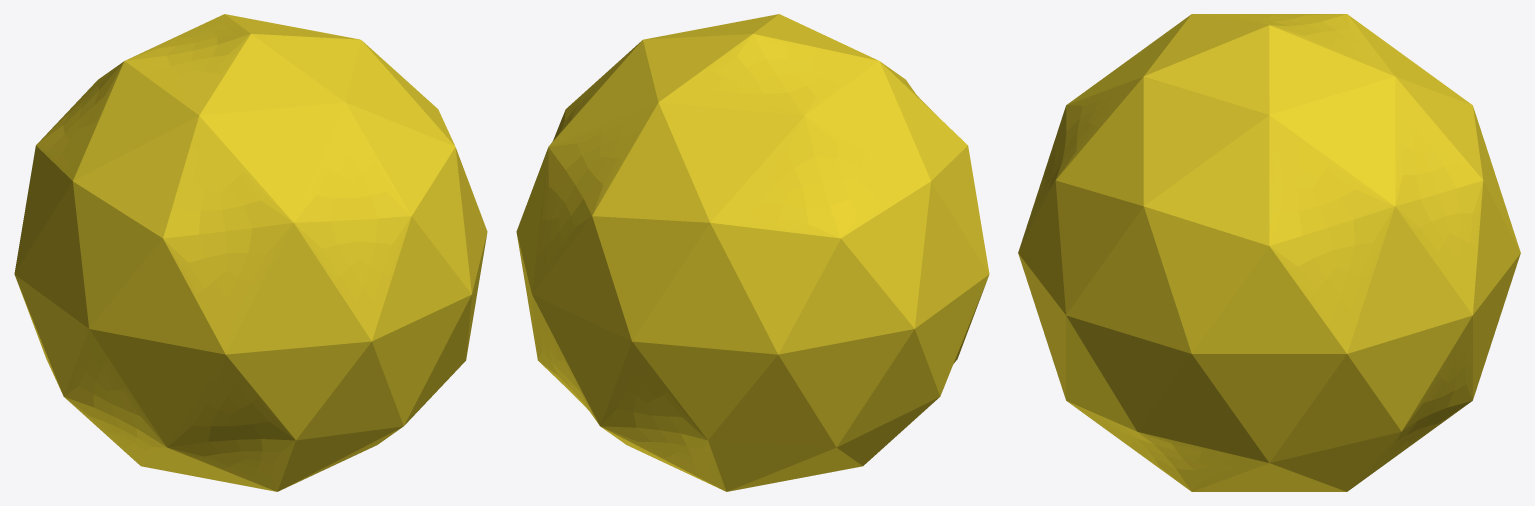
File: Ball.fbx
3 views of the same model, side by side, from view 1: azimuth 30°, elevation 25°; view 2: azimuth 150°, elevation 25°; view 3: azimuth 270°, elevation 25° (orthographic). The views are drawn at different scales.
Parts seen in each view (by area): view 1: Icosphere; view 2: Icosphere; view 3: Icosphere.
Part boxes in pixels (bbox=[...]): Icosphere: bbox=[14, 14, 487, 491]; Icosphere: bbox=[516, 14, 989, 491]; Icosphere: bbox=[1018, 14, 1520, 491].
Bounding box in the file's own units: 60.56 × 63.68 × 63.68.
